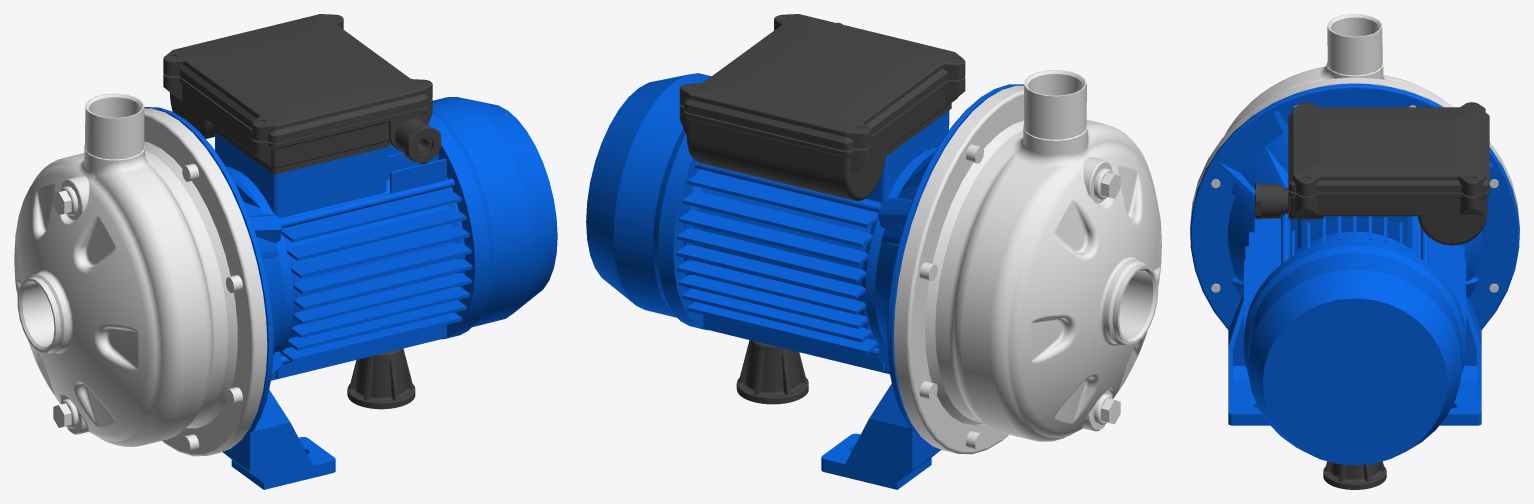
Rendered from PUMP_01.glb.
The picture shows the model from 3 angles, left to right: view 1: azimuth 30°, elevation 25°; view 2: azimuth 150°, elevation 25°; view 3: azimuth 270°, elevation 25°; orthographic projection. The views are drawn at different scales.
Visible parts, largest first — view 1: 251419025-1-solid002, MEC_71_MONOFASE-1-solid002, COPRIMORS_MEC63-71_MONOFASE_M4-1-solid002, NONE025, 72012-1-solid002; view 2: 251419025-1-solid002, MEC_71_MONOFASE-1-solid002, COPRIMORS_MEC63-71_MONOFASE_M4-1-solid002, NONE025, 72012-1-solid002; view 3: MEC_71_MONOFASE-1-solid002, NONE025, COPRIMORS_MEC63-71_MONOFASE_M4-1-solid002, 251419025-1-solid002, 72012-1-solid002.
Boxes of the visible parts, left/top/right/bottom form: 251419025-1-solid002: left=14, top=93, right=267, bottom=456; MEC_71_MONOFASE-1-solid002: left=215, top=97, right=557, bottom=380; COPRIMORS_MEC63-71_MONOFASE_M4-1-solid002: left=163, top=14, right=441, bottom=174; NONE025: left=144, top=107, right=335, bottom=489; 72012-1-solid002: left=347, top=348, right=415, bottom=409; 251419025-1-solid002: left=893, top=70, right=1161, bottom=454; MEC_71_MONOFASE-1-solid002: left=586, top=73, right=949, bottom=374; COPRIMORS_MEC63-71_MONOFASE_M4-1-solid002: left=679, top=14, right=965, bottom=200; NONE025: left=821, top=84, right=1023, bottom=489; 72012-1-solid002: left=736, top=340, right=808, bottom=404; MEC_71_MONOFASE-1-solid002: left=1243, top=214, right=1466, bottom=465; NONE025: left=1190, top=84, right=1519, bottom=425; COPRIMORS_MEC63-71_MONOFASE_M4-1-solid002: left=1255, top=102, right=1489, bottom=245; 251419025-1-solid002: left=1190, top=14, right=1519, bottom=292; 72012-1-solid002: left=1323, top=461, right=1386, bottom=489.
Size of the model in its own units: 320 by 229 by 208.
